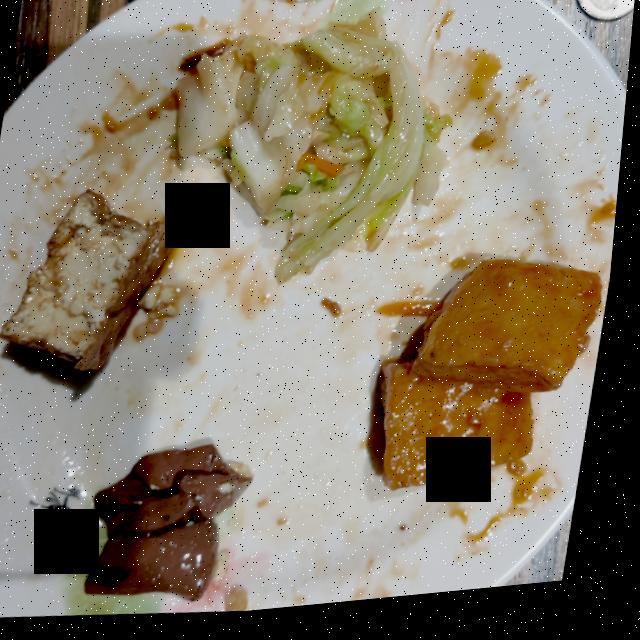cabbage: (177, 16, 455, 288)
coin: (577, 0, 637, 32)
creamy tofu: (389, 269, 608, 499)
egg tofu: (6, 192, 176, 372)
pig blood curd: (95, 449, 262, 605)
